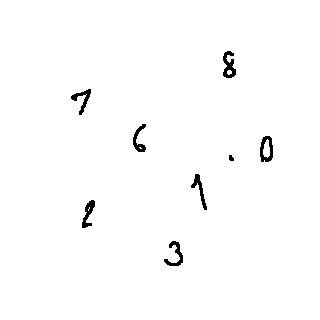.: (221, 150, 240, 169)
0: (247, 127, 288, 167)
1: (184, 169, 213, 216)
2: (78, 195, 104, 241)
3: (154, 229, 192, 272)
6: (129, 116, 155, 159)
7: (66, 85, 104, 120)
8: (215, 49, 242, 83)
